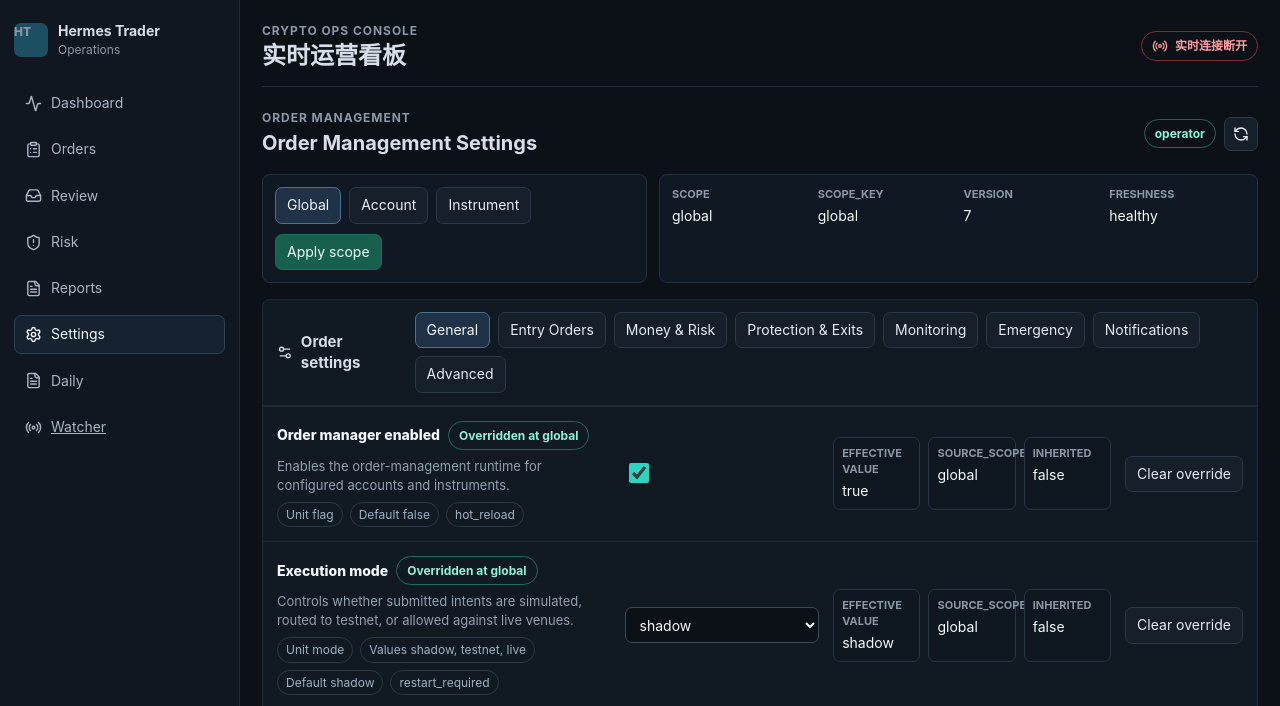
Test: order management settings › flags every Advanced setting as high risk
Click the tab "Advanced".
click(460, 374)  # box [414,356,506,393]
(page scrolled)
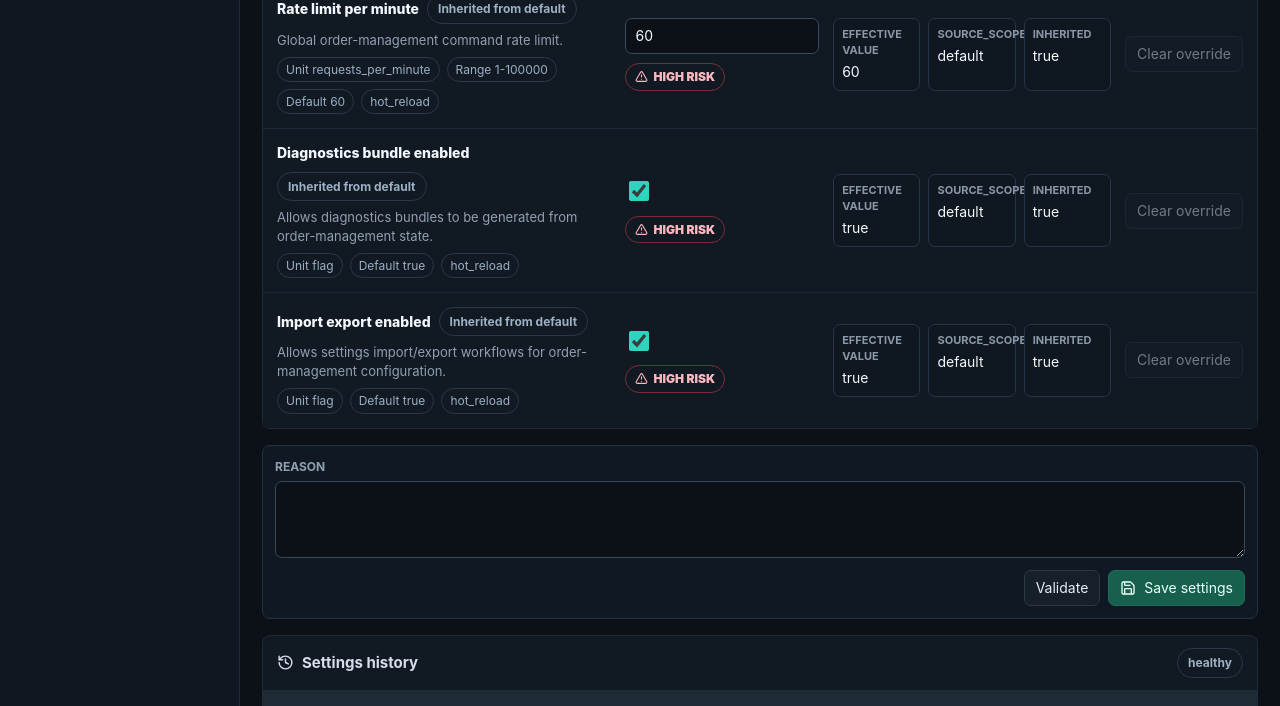
Expected: the element named "Import export enabled setting" shows "HIGH RISK", [654,371,715,386]
